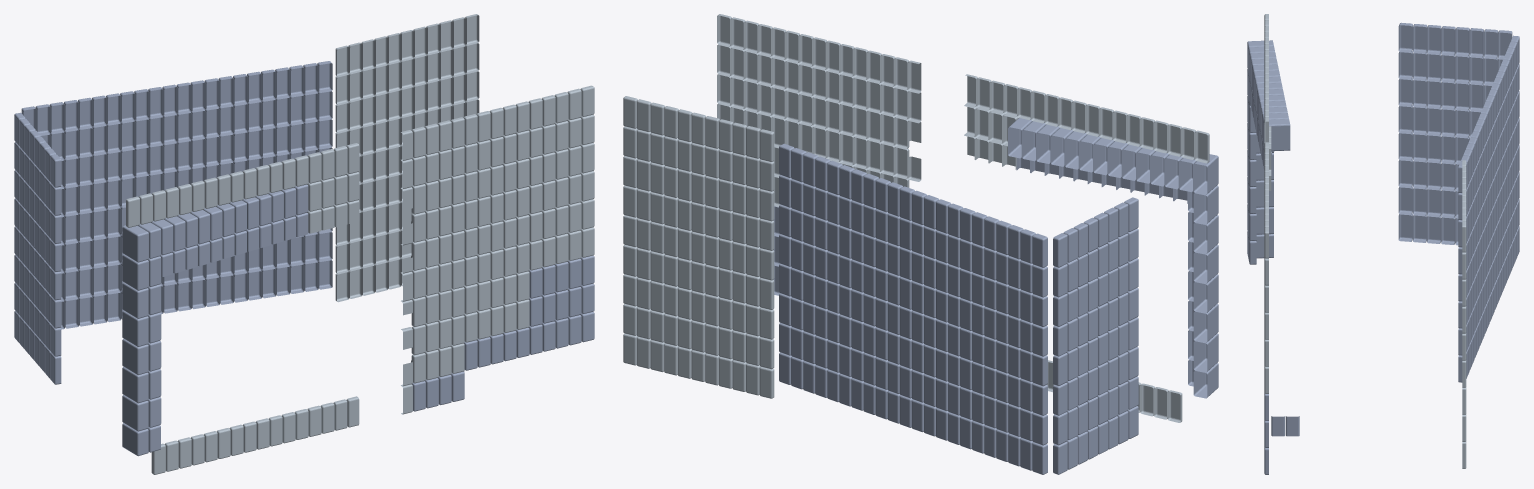
The model's file is aiu-second-plitka-predemo.glb.
The picture shows the model from 3 angles, left to right: view 1: azimuth 30°, elevation 25°; view 2: azimuth 150°, elevation 25°; view 3: azimuth 270°, elevation 25°; orthographic projection. The views are drawn at different scales.
Visible parts, largest first — view 1: Cube.490, Cube.525, Cube.480, Cube.527, Cube.529, Cube.493, Cube.483, Cube.495; view 2: Cube.490, Cube.480, Cube.525, Cube.529, Cube.527, Cube.483, Cube.493, Cube.495; view 3: Cube.470, Cube.493, Cube.777, Cube.771, Cube.772, Cube.760, Cube.775, Cube.758, Cube.483, Cube.720, Cube.731, Cube.732 (+36 smaller).
Boxes of the visible parts, x1=… form: Cube.490: x1=122, y1=225, x2=148, y2=262; Cube.525: x1=122, y1=282, x2=148, y2=318; Cube.480: x1=122, y1=254, x2=148, y2=290; Cube.527: x1=122, y1=310, x2=148, y2=346; Cube.529: x1=122, y1=338, x2=148, y2=374; Cube.493: x1=122, y1=395, x2=148, y2=431; Cube.483: x1=122, y1=366, x2=148, y2=403; Cube.495: x1=122, y1=423, x2=148, y2=456; Cube.490: x1=1193, y1=154, x2=1218, y2=194; Cube.480: x1=1193, y1=185, x2=1218, y2=224; Cube.525: x1=1193, y1=215, x2=1218, y2=253; Cube.529: x1=1193, y1=274, x2=1218, y2=313; Cube.527: x1=1193, y1=244, x2=1218, y2=283; Cube.483: x1=1193, y1=303, x2=1218, y2=342; Cube.493: x1=1193, y1=333, x2=1218, y2=372; Cube.495: x1=1193, y1=363, x2=1218, y2=398; Cube.470: x1=1263, y1=119, x2=1290, y2=151; Cube.493: x1=1247, y1=204, x2=1273, y2=234; Cube.777: x1=1483, y1=29, x2=1498, y2=58; Cube.771: x1=1441, y1=26, x2=1455, y2=55; Cube.772: x1=1455, y1=27, x2=1469, y2=56; Cube.760: x1=1427, y1=25, x2=1441, y2=54; Cube.775: x1=1469, y1=28, x2=1483, y2=57; Cube.758: x1=1398, y1=22, x2=1412, y2=52; Cube.483: x1=1247, y1=177, x2=1273, y2=207; Cube.720: x1=1427, y1=134, x2=1441, y2=162; Cube.731: x1=1441, y1=81, x2=1455, y2=109; Cube.732: x1=1455, y1=82, x2=1469, y2=110.
Size of the model in its own units: 6.97 by 3.98 by 3.64.
